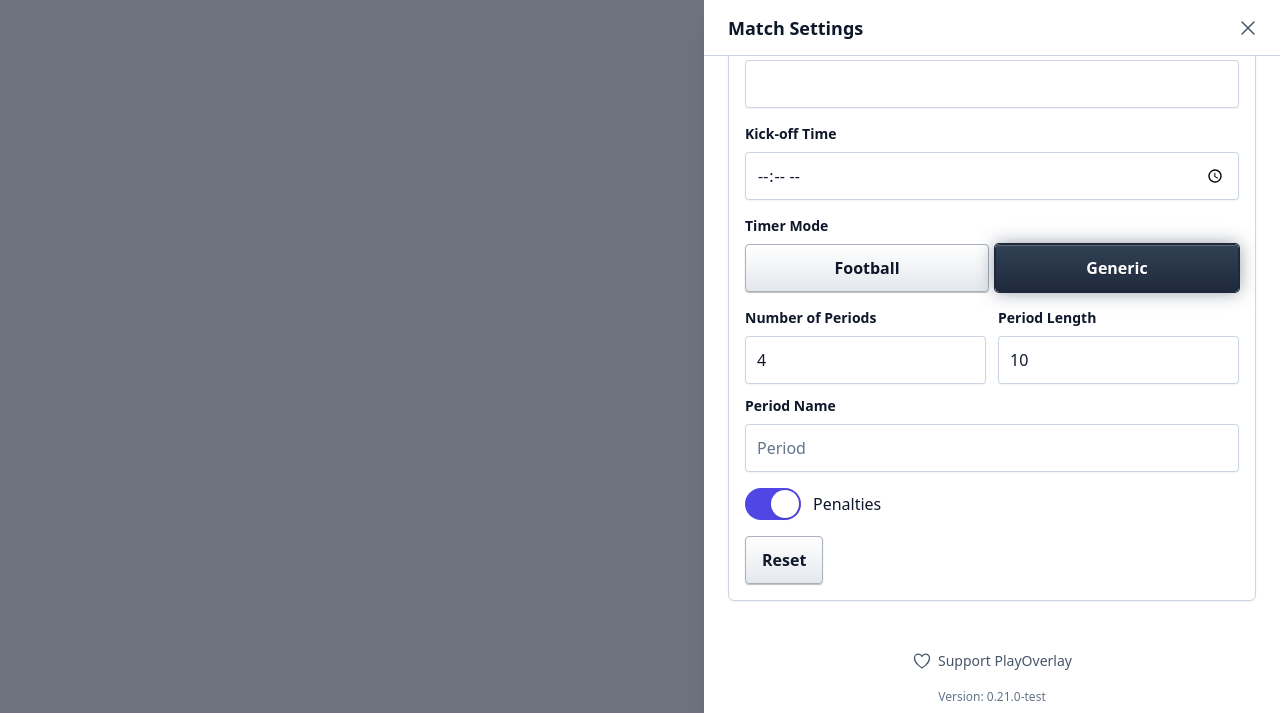
Test: MatchSettingsMenu numeric timer fields › refuses period count 0 with an inline error and leaves the setting alone
The width and height of the screenshot is (1280, 713).
(page scrolled)
Replace the text in the number field labelled "Number of Periods" with "0" at (866, 360), box [745,336,986,384]
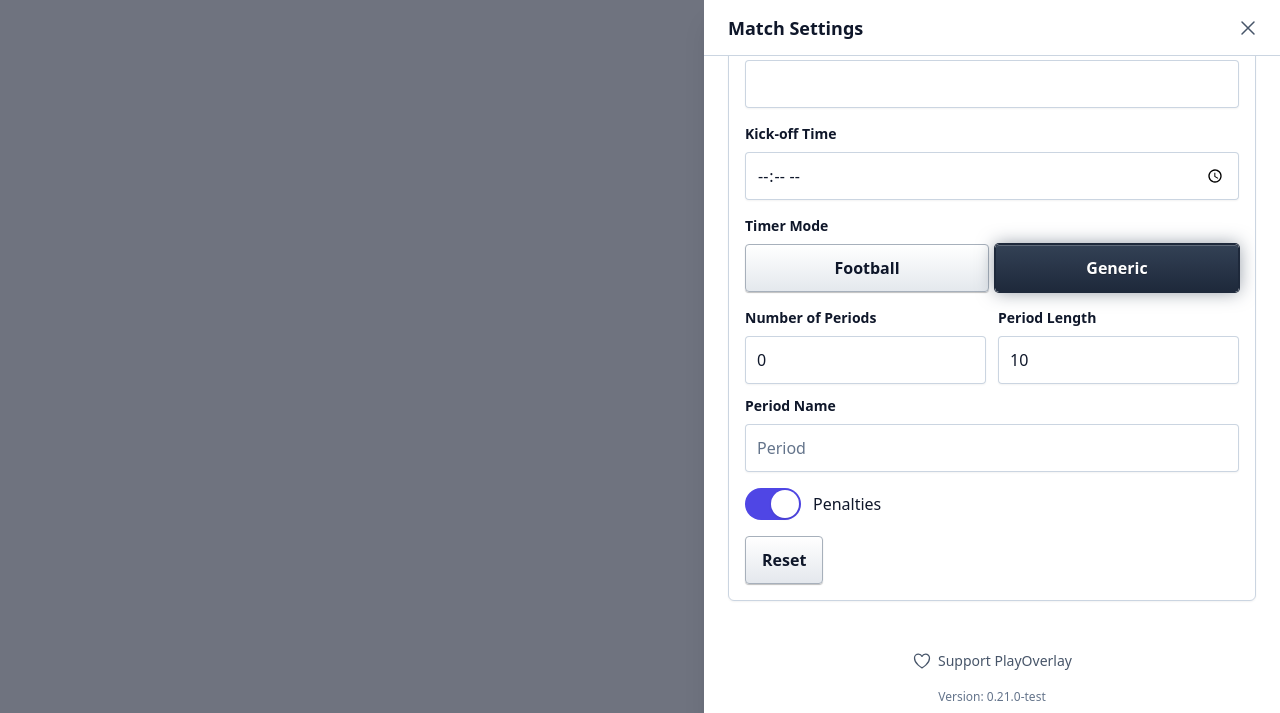
Leave the number field labelled "Number of Periods", box [745,336,986,384]
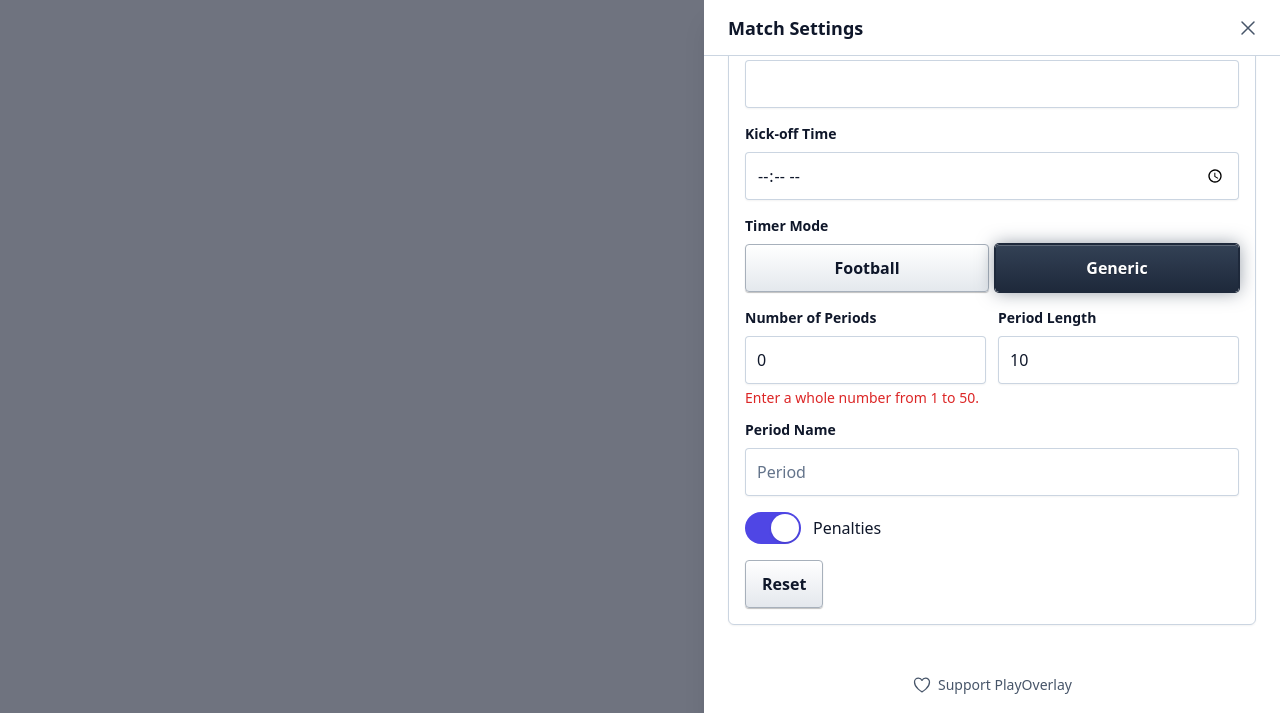
Now the text "Enter a whole number from 1 to 50." is shown, box [745,388,986,408]
